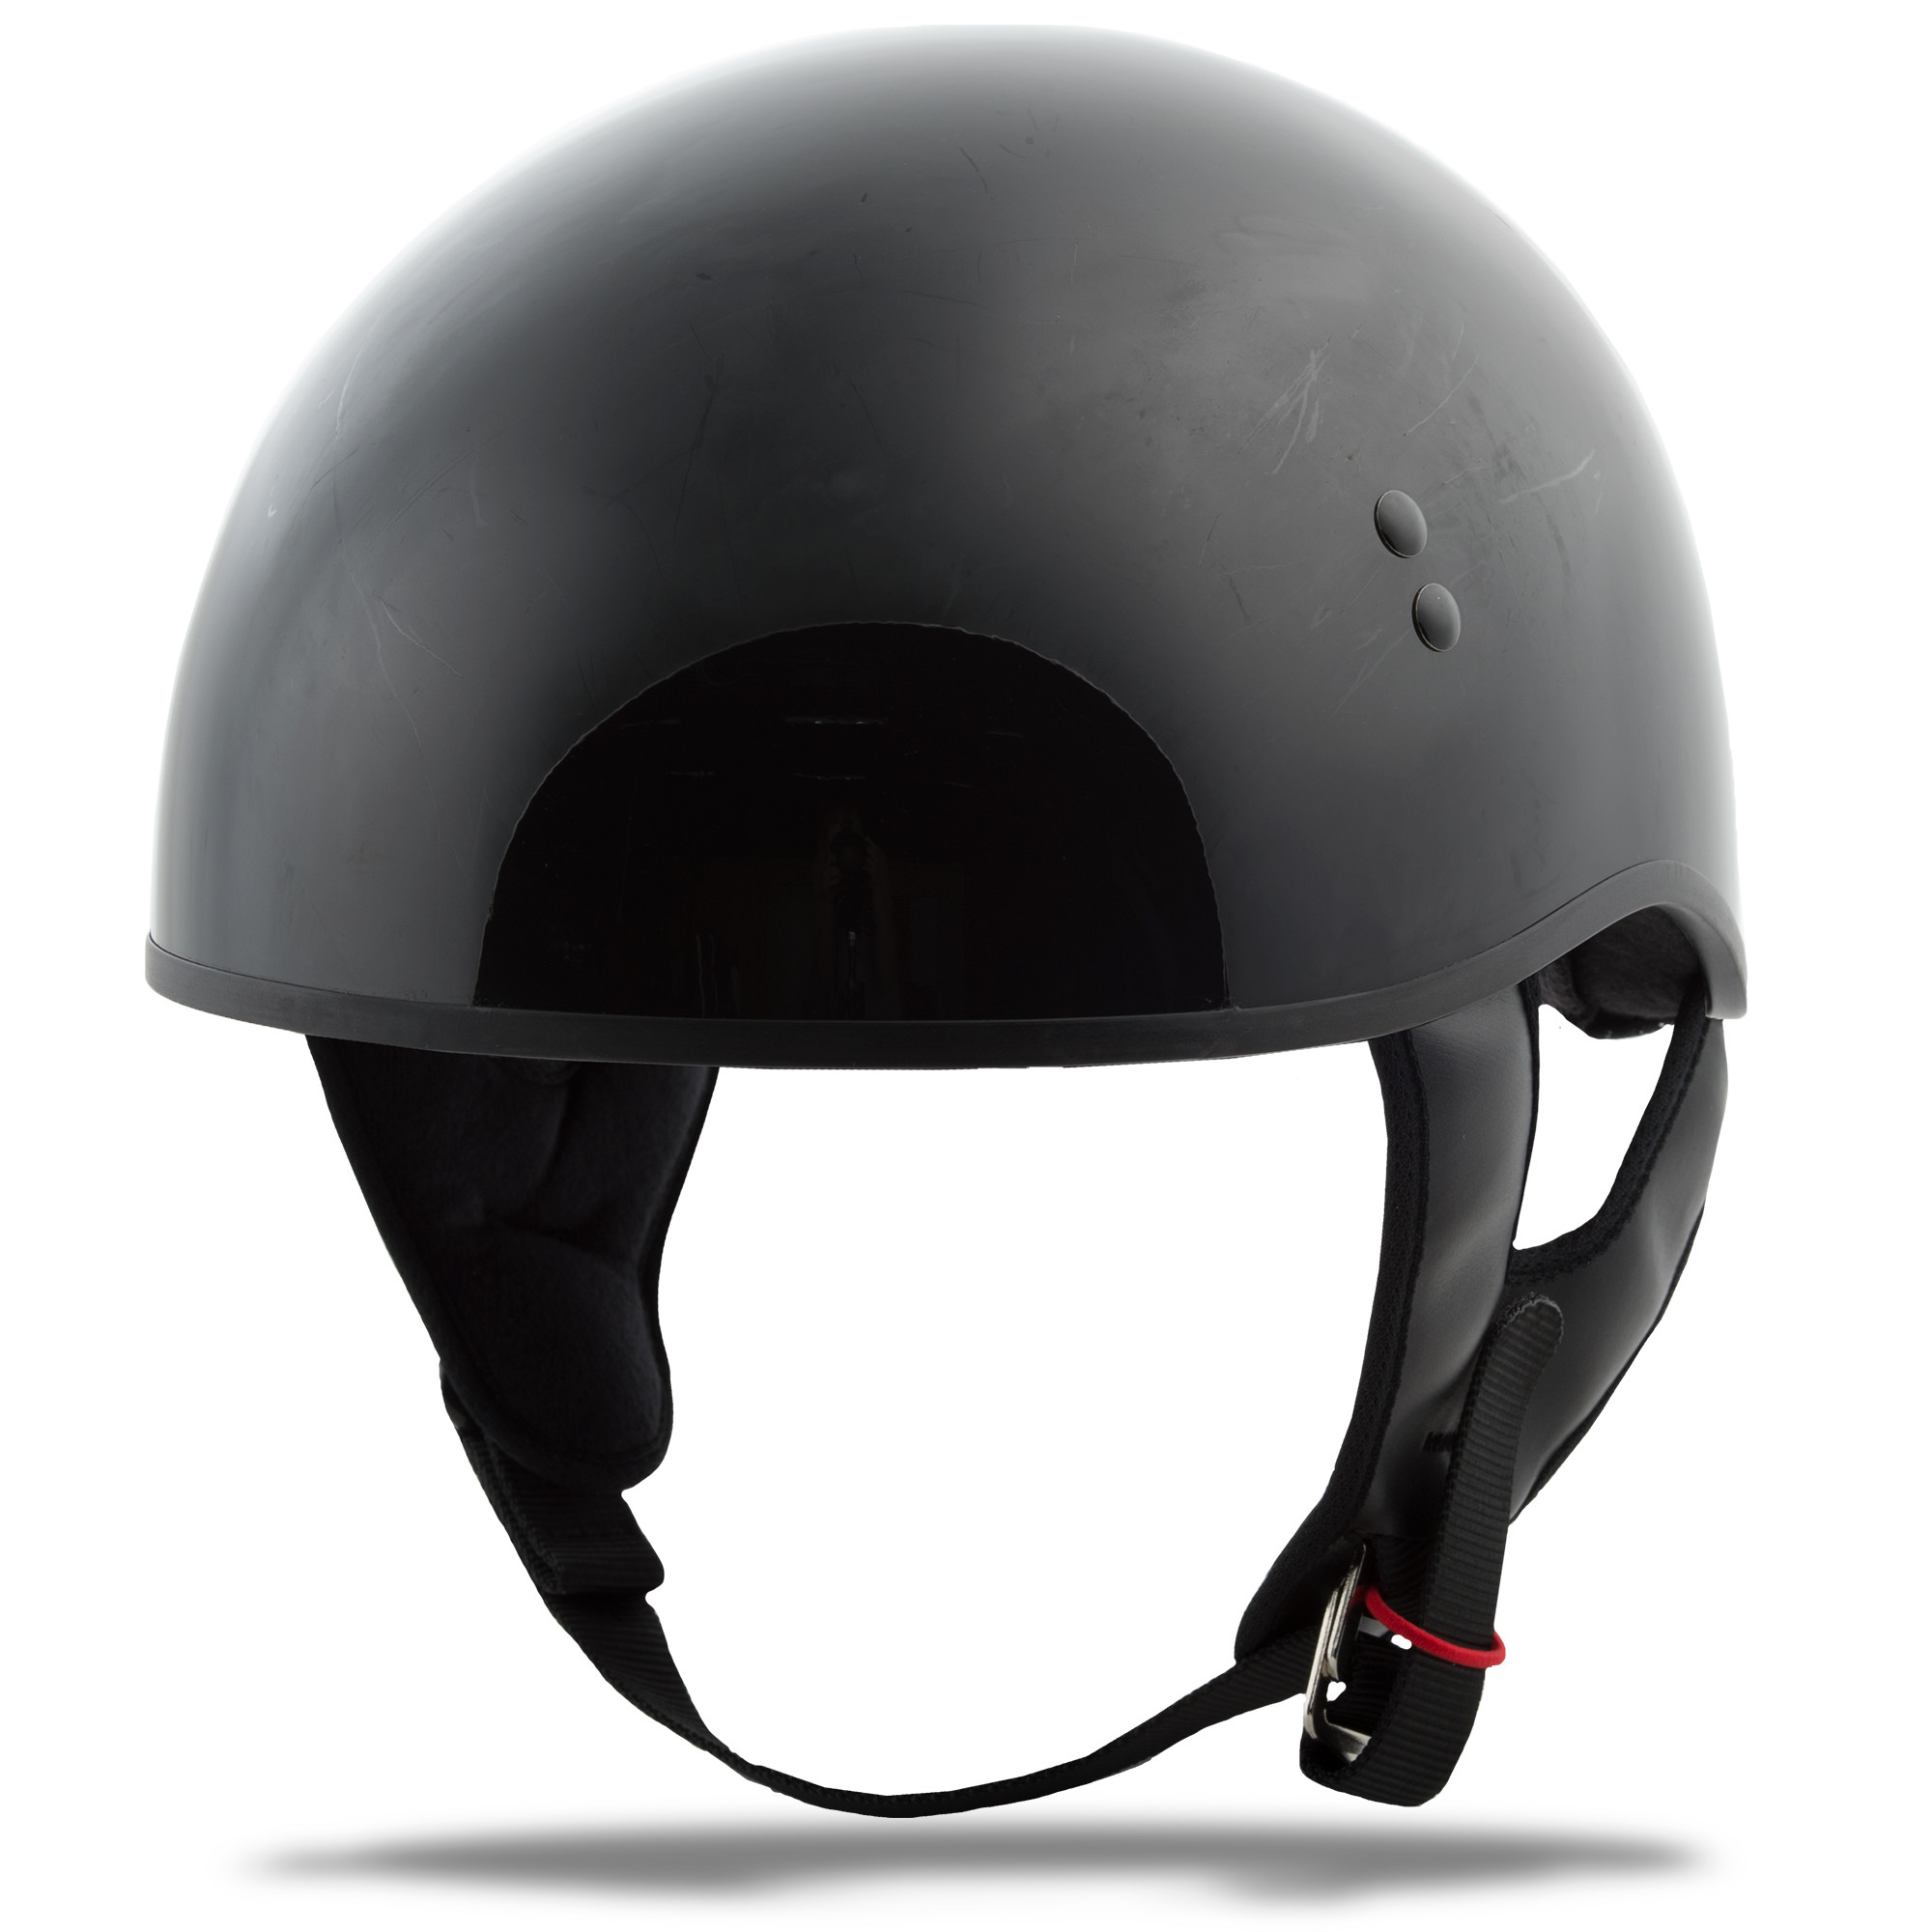with_helmet: (124, 4, 1767, 1276)
